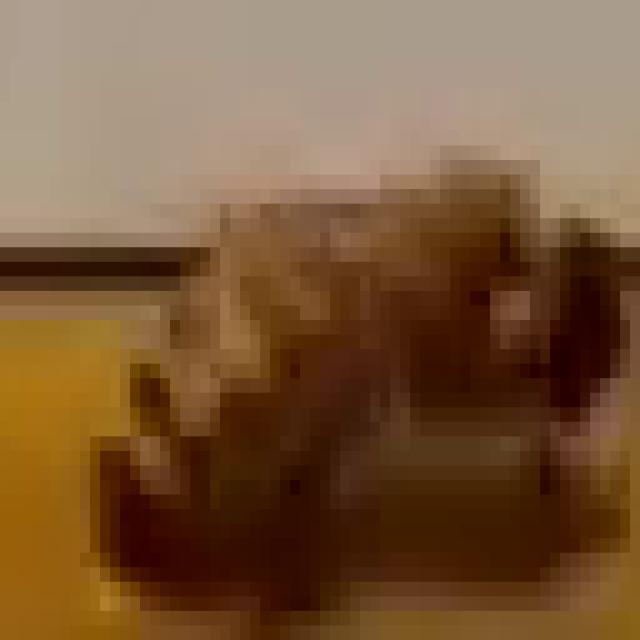honeybee: (89, 101, 618, 617)
